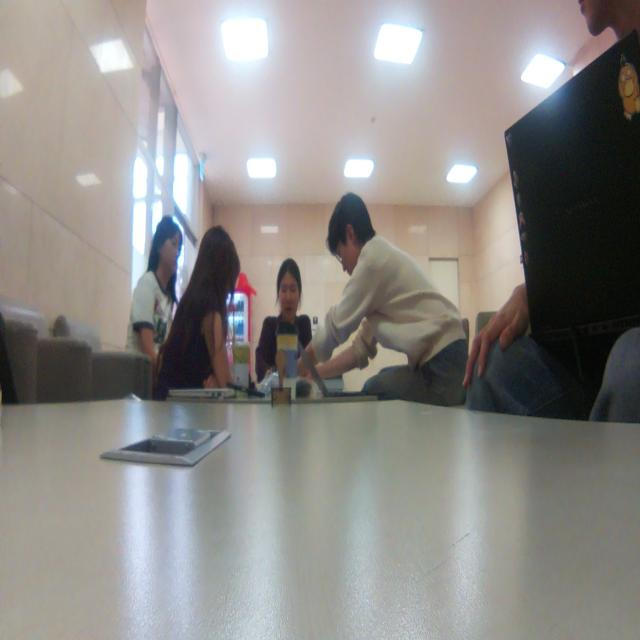target: (272, 350, 292, 407)
